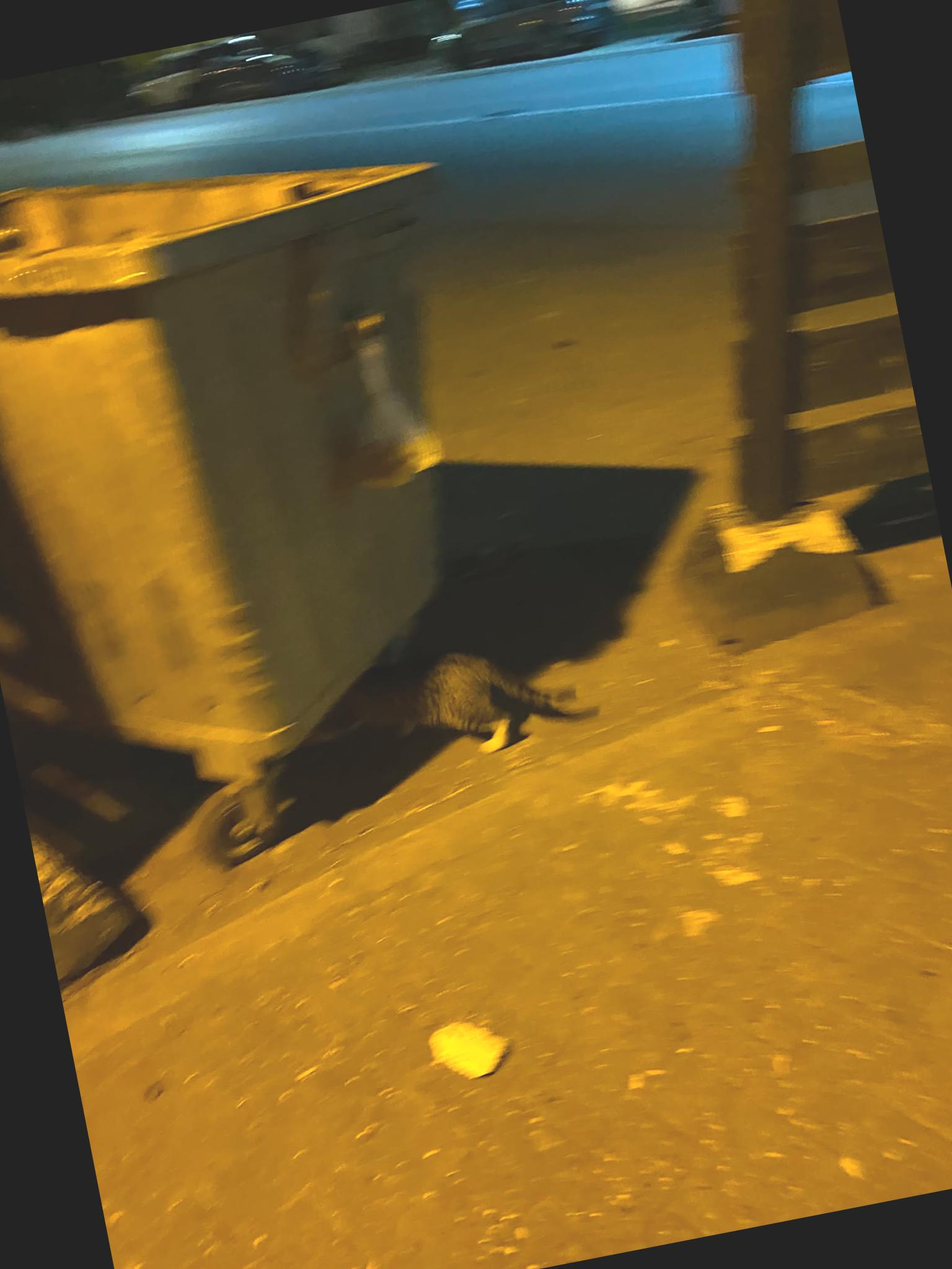macka: (343, 631, 588, 775)
